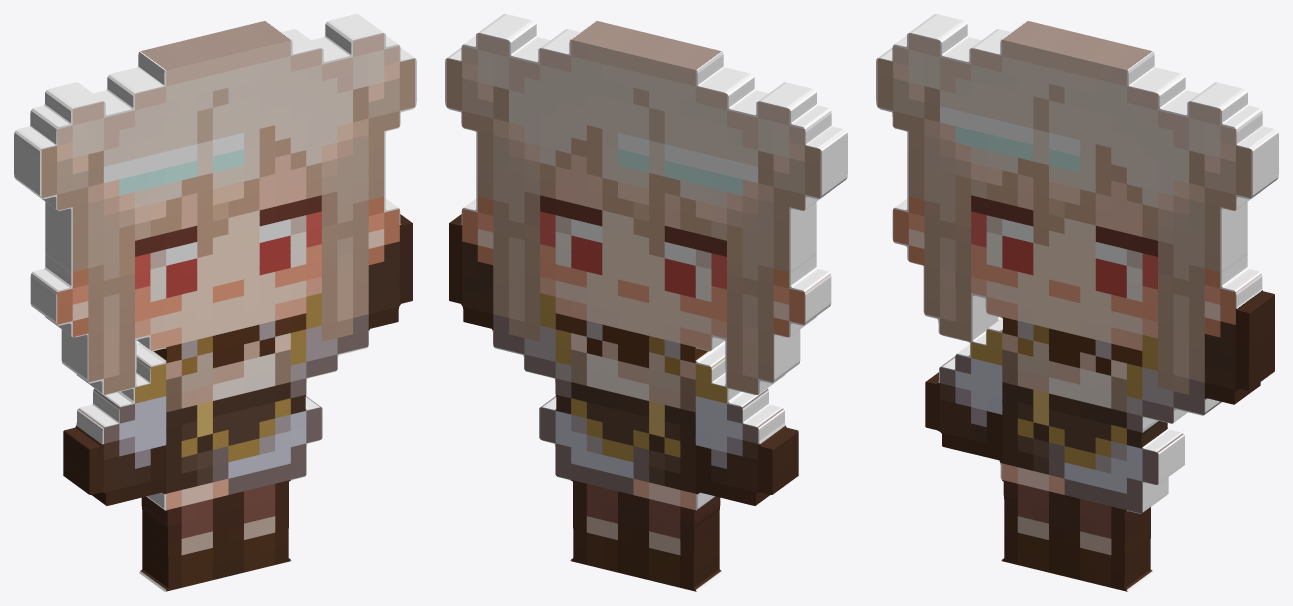
The model's file is mimuchi.glb.
The picture shows the model from 3 angles, left to right: view 1: azimuth 30°, elevation 25°; view 2: azimuth 150°, elevation 25°; view 3: azimuth 330°, elevation 25°; orthographic projection.
Visible parts, largest first — view 1: Plane.001; view 2: Plane.001; view 3: Plane.001.
Part boxes in pixels (bbox=[...]): Plane.001: bbox=[14, 14, 416, 591]; Plane.001: bbox=[445, 14, 847, 591]; Plane.001: bbox=[876, 14, 1278, 591].
Bounding box in the file's own units: 1.51 × 2 × 0.18.
Materials: 1 (1 with a texture image).
